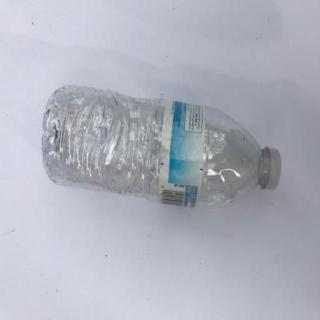Plastic-bottle: (42, 84, 282, 210)
